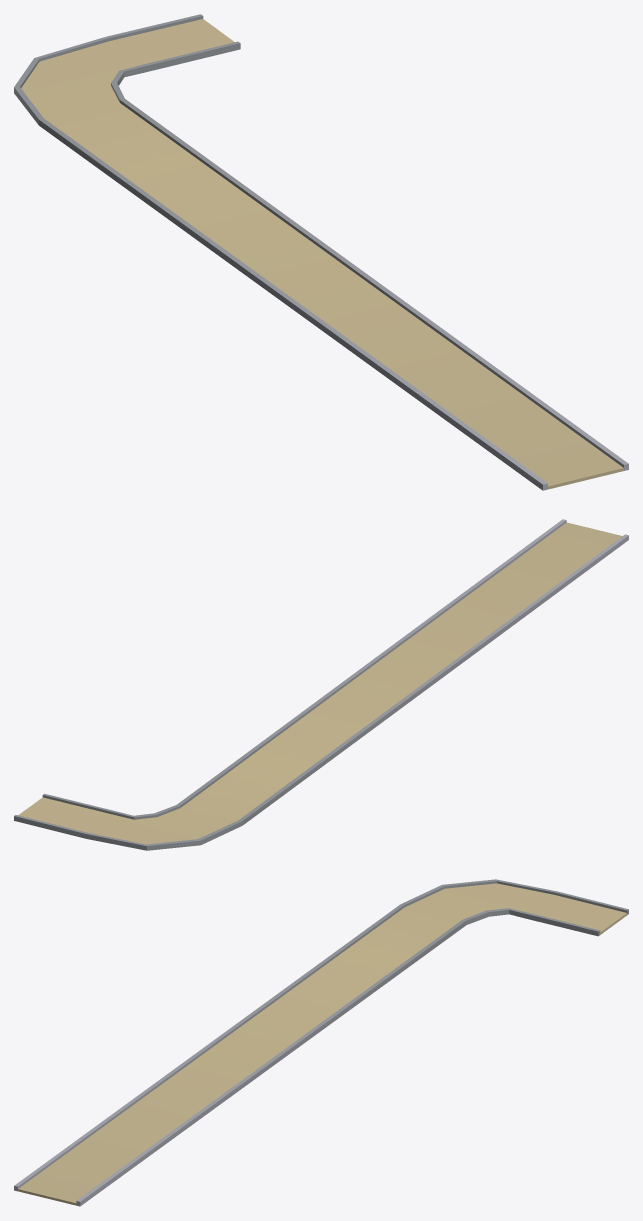
File: sidewalk_29.fbx
3 views of the same model, one above another, from view 1: azimuth 30°, elevation 25°; view 2: azimuth 150°, elevation 25°; view 3: azimuth 330°, elevation 25° (orthographic). The views are drawn at different scales.
Parts seen in each view (by area): view 1: sidewalk_28; view 2: sidewalk_28; view 3: sidewalk_28.
Part boxes in pixels (<box>): sidewalk_28: <box>14,14,628,490</box>; sidewalk_28: <box>14,519,628,850</box>; sidewalk_28: <box>14,879,628,1206</box>.
Size of the model in its own units: 1.08 by 0.0401 by 4.65.
Materials: 1 (1 with a texture image).
